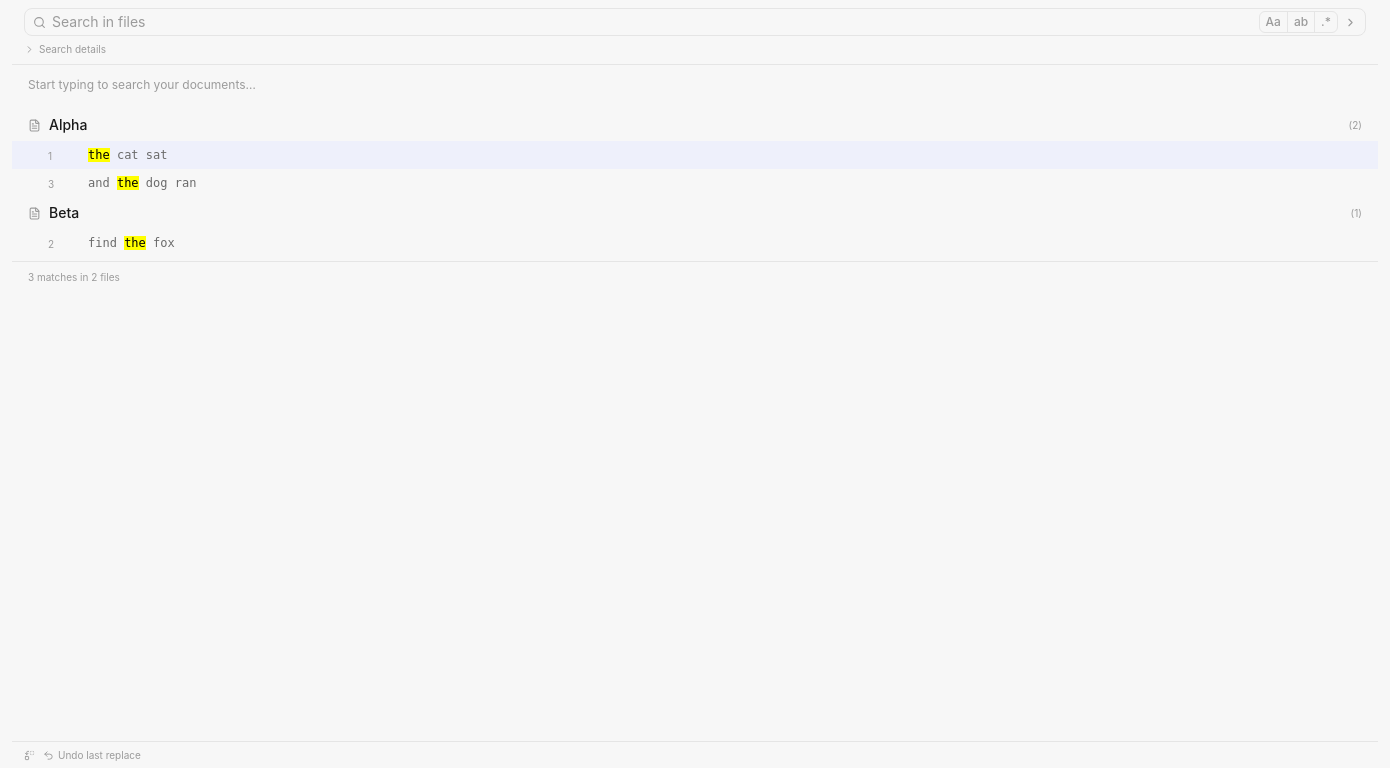
Scenario: SidebarSearch (Search view) › hides the replace row behind the chevron and reveals it on demand
Click the button with test id "search-toggle-replace": (1350, 22) [1344, 16, 1357, 28]
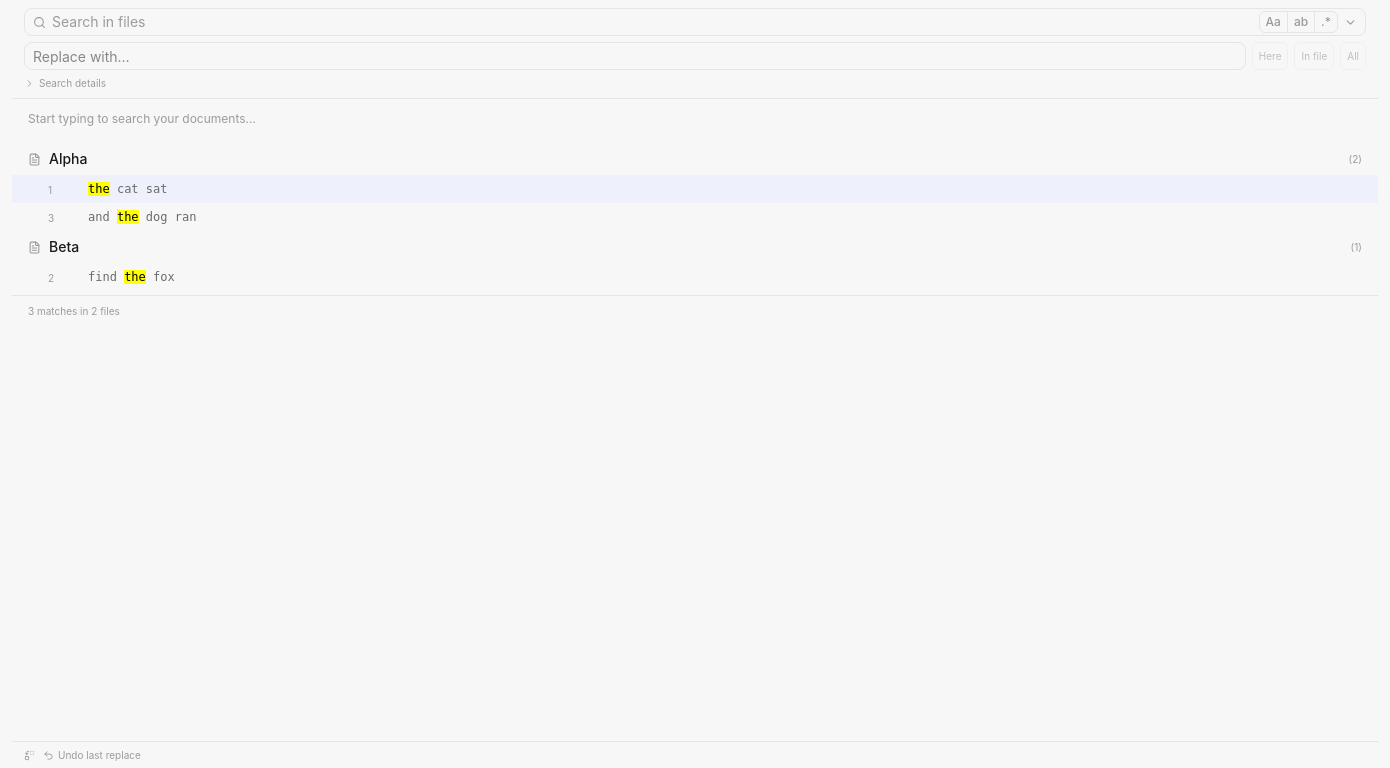
Check: the field with test id "search-replace-input" is shown, box [24, 42, 1246, 70]
Check: the button with test id "search-replace-all" is shown, box [1340, 42, 1366, 70]
